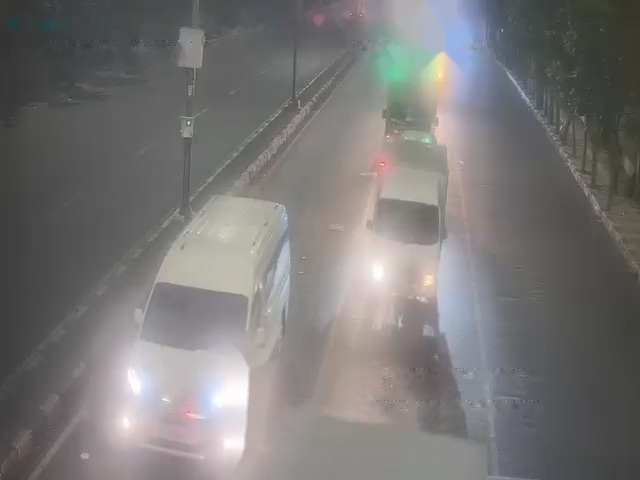Bis: (137, 194, 282, 464)
Truk: (363, 146, 446, 298)
